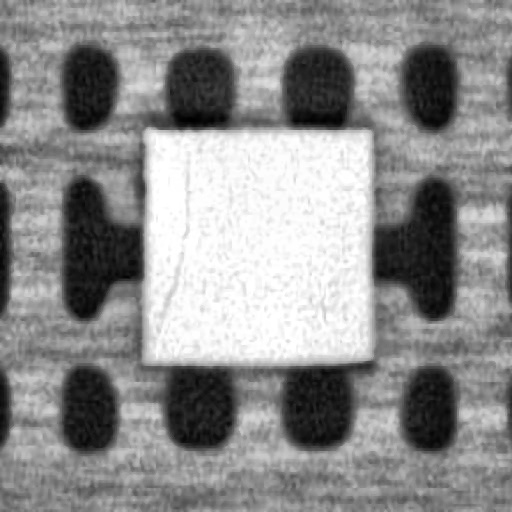DIE_CRACK: (150, 146, 190, 332)
